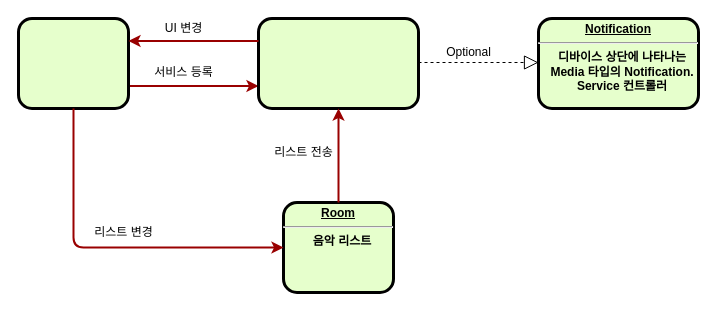
Some shapes in this 717 by 311 pixel diagram are drawn without their labels. The centre of each missing label's shape, as x and y in pixels:
"Application 앱 실행 시 Foreground에 나타나는 부분" goes at point 73,63.
"Service MediaPlayerService 앱이 백그라운드로 내려가더라도 실행" goes at point 338,63.
